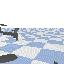drone: (0, 24, 20, 42)
